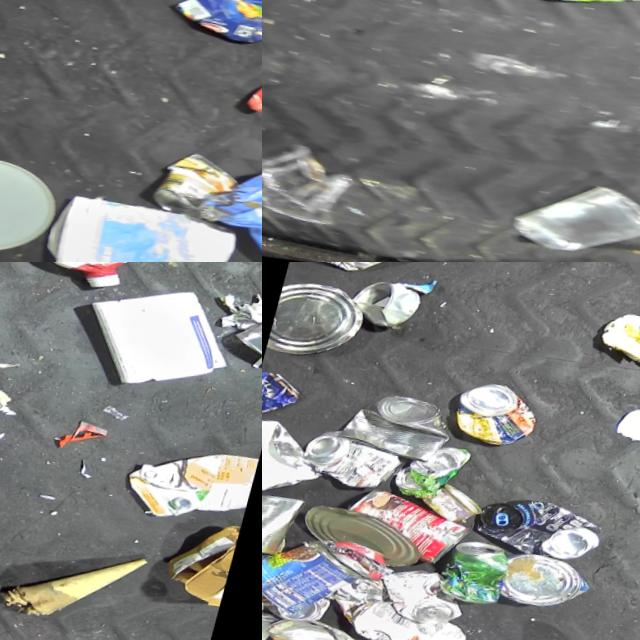can: (339, 480, 482, 580), (474, 489, 615, 579), (262, 520, 376, 629), (335, 383, 462, 475), (298, 497, 433, 580), (266, 272, 374, 370), (298, 422, 411, 501), (150, 148, 249, 233), (449, 377, 548, 459), (376, 561, 478, 637), (502, 550, 602, 624), (440, 535, 520, 612), (394, 439, 476, 509), (345, 274, 424, 337), (262, 482, 311, 563), (421, 480, 491, 533), (265, 608, 373, 640), (262, 367, 309, 435), (268, 587, 338, 629), (230, 301, 262, 385), (288, 262, 402, 283), (262, 541, 281, 624), (262, 603, 286, 640)
non_white_jug: (121, 438, 262, 544), (0, 262, 158, 308)
